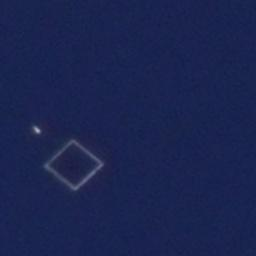square_solid: (37, 136, 113, 197)
